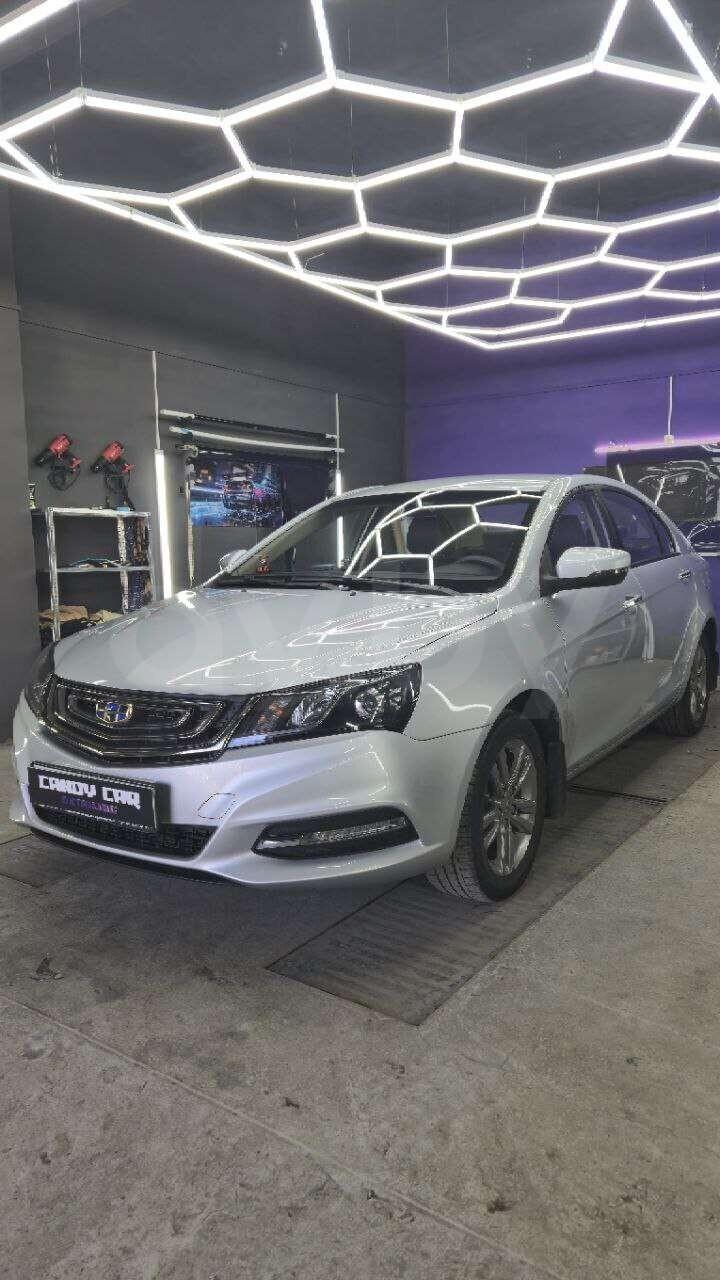Emgrand_2019-2021: (8, 466, 720, 904)
